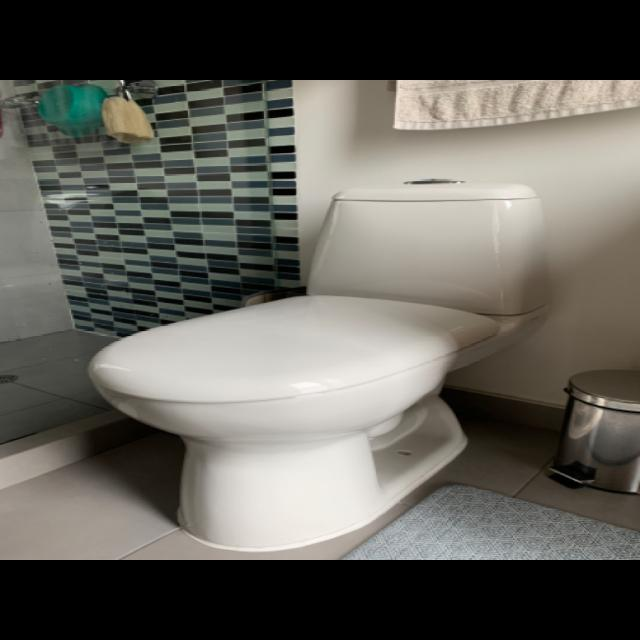toilet: (86, 181, 550, 555)
